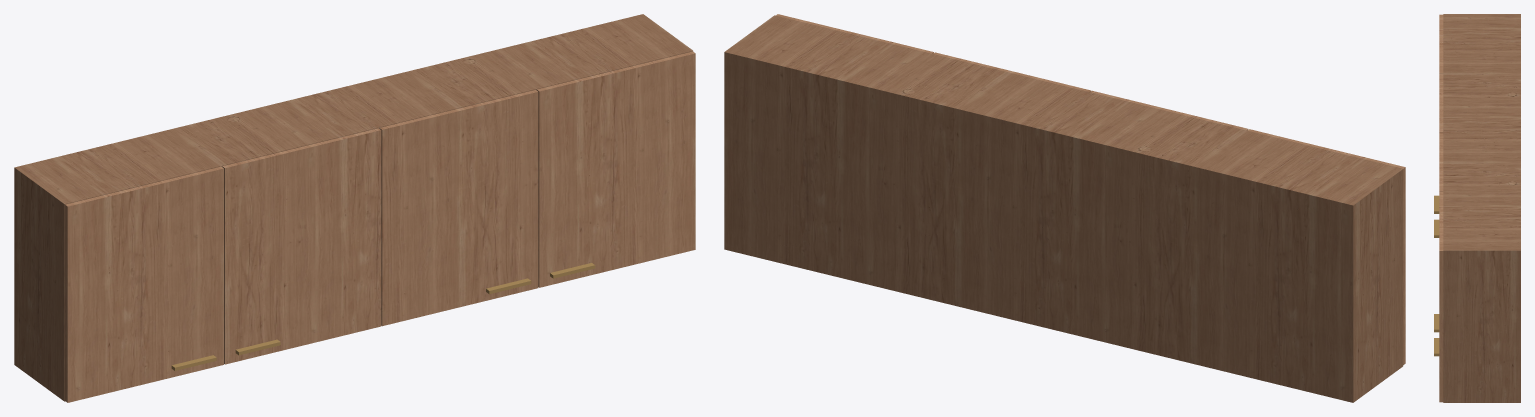
File: wall-veneer.glb
3 renders of one model, left to right at view 1: azimuth 30°, elevation 25°; view 2: azimuth 150°, elevation 25°; view 3: azimuth 270°, elevation 25°, orthographic. The views are drawn at different scales.
Parts seen in each view (by area): view 1: wall-cabinets; view 2: wall-cabinets; view 3: wall-cabinets.
Boxes of the visible parts, box(x1,y1,x2,y2) form: wall-cabinets: box(14, 14, 695, 402); wall-cabinets: box(724, 14, 1405, 402); wall-cabinets: box(1434, 14, 1520, 402).
Bounding box in the file's own units: 2.4 × 0.72 × 0.372.
Materials: 3 (2 with a texture image).
